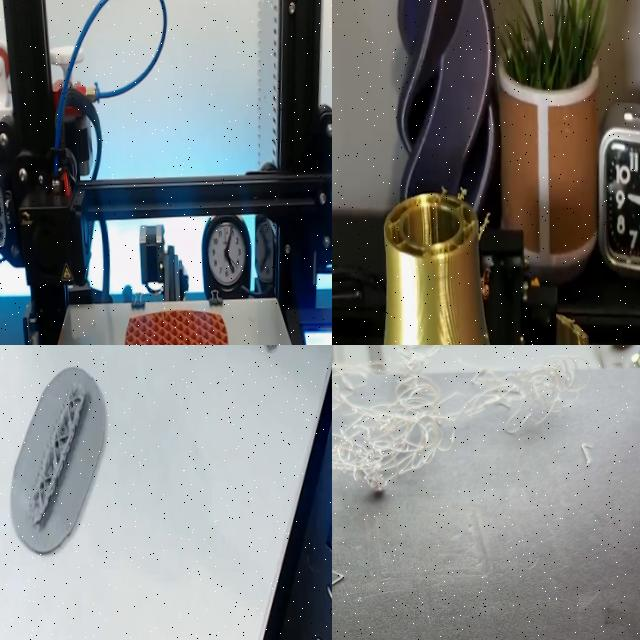spaghetti: (332, 345, 608, 637), (434, 167, 494, 251)
